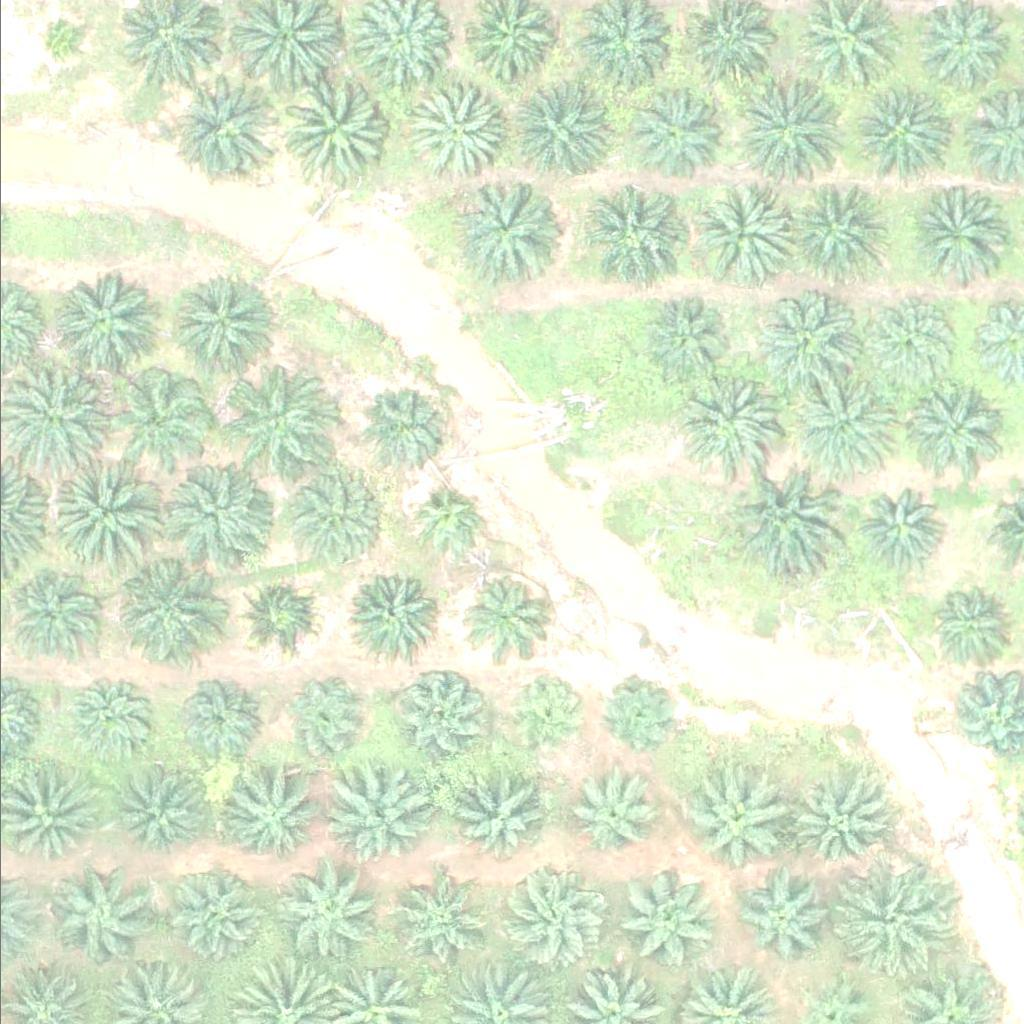Kelapa_Sawit: (831, 863, 945, 976), (52, 459, 165, 572), (167, 460, 280, 573), (727, 461, 840, 574), (108, 556, 221, 668), (275, 72, 388, 184), (167, 69, 280, 181), (790, 364, 903, 476), (732, 76, 845, 188), (902, 187, 1003, 287), (268, 860, 369, 960), (158, 862, 259, 962), (222, 767, 323, 867), (222, 361, 323, 461), (110, 367, 211, 467), (48, 273, 149, 373), (174, 279, 275, 379), (450, 176, 551, 276), (401, 83, 502, 183), (502, 868, 603, 968), (561, 760, 662, 860), (678, 370, 779, 470), (761, 295, 862, 395), (692, 179, 793, 279), (780, 179, 881, 279), (848, 83, 949, 183), (900, 381, 1000, 481), (49, 865, 149, 965), (442, 766, 542, 866), (326, 769, 426, 869), (288, 468, 388, 568), (500, 81, 600, 181), (618, 872, 718, 972), (788, 776, 888, 876), (682, 767, 782, 867), (583, 185, 683, 285), (624, 81, 724, 181), (868, 300, 957, 388), (384, 882, 472, 970), (118, 769, 206, 857), (497, 670, 585, 758), (279, 674, 367, 762), (167, 675, 255, 763), (62, 675, 150, 763), (359, 383, 447, 471), (919, 581, 1007, 668), (396, 672, 484, 759), (455, 574, 543, 661), (350, 570, 438, 657), (232, 570, 320, 657), (11, 567, 99, 654), (733, 873, 821, 960), (596, 672, 684, 759), (850, 487, 938, 574), (643, 296, 731, 383), (405, 486, 481, 561), (27, 14, 77, 64)
